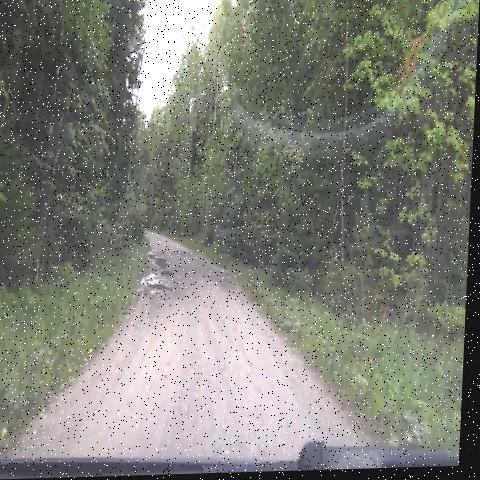pothole: (144, 281, 172, 304), (145, 253, 172, 276), (153, 266, 177, 288)
